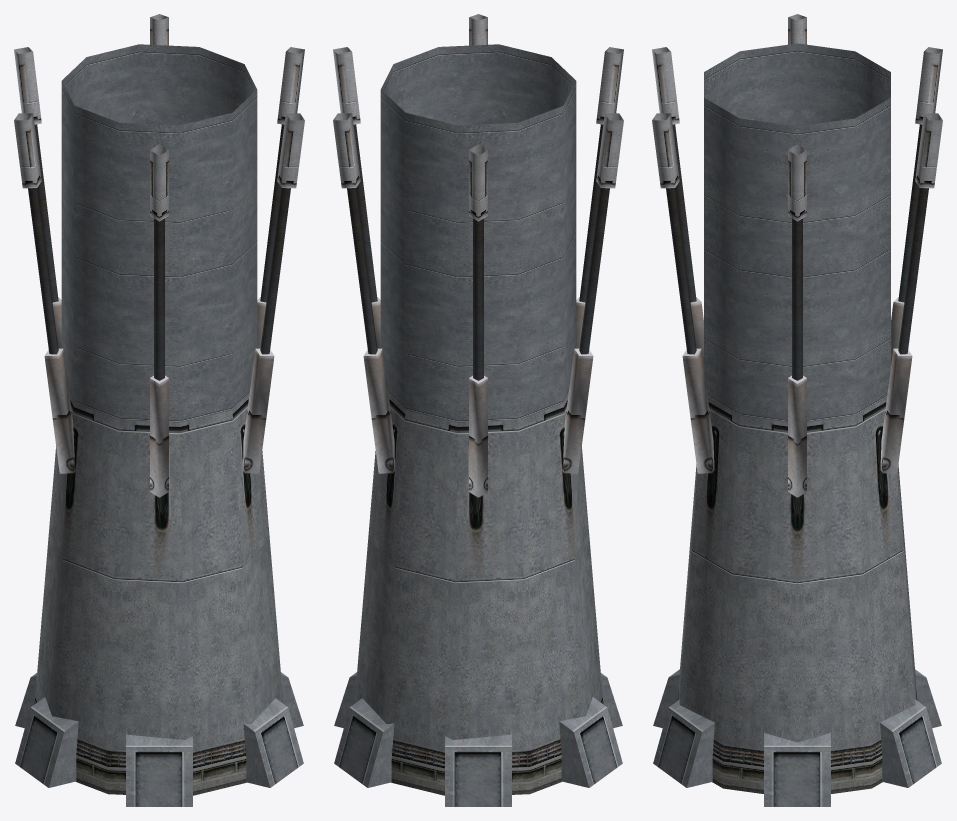
The model's file is poi_all_impl_bunker_pillar_s05_l1.fbx.
The picture shows the model from 3 angles, left to right: view 1: azimuth 30°, elevation 25°; view 2: azimuth 150°, elevation 25°; view 3: azimuth 270°, elevation 25°; orthographic projection.
Visible parts, largest first — view 1: mesh_node; view 2: mesh_node; view 3: mesh_node.
Part boxes in pixels (<box>): mesh_node: <box>14,14,304,806</box>; mesh_node: <box>333,14,623,806</box>; mesh_node: <box>652,14,942,806</box>.
Bounding box in the file's own units: 2.5 × 5.44 × 2.16.
